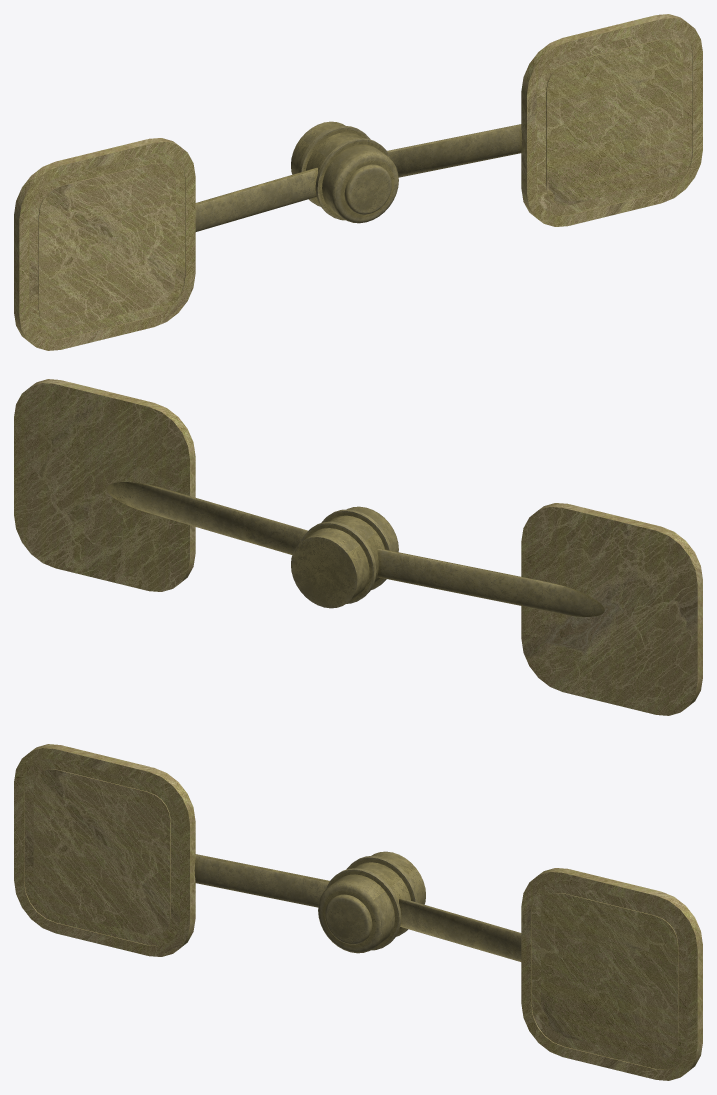
Rendered from rotating_floor.fbx.
The picture shows the model from 3 angles, top to bottom: view 1: azimuth 30°, elevation 25°; view 2: azimuth 150°, elevation 25°; view 3: azimuth 330°, elevation 25°; orthographic projection.
Visible parts, largest first — view 1: rotating_floor; view 2: rotating_floor; view 3: rotating_floor.
Boxes of the visible parts, x1,y1,x2,y2 form: rotating_floor: (14,14,702,350); rotating_floor: (14,379,702,715); rotating_floor: (14,744,702,1080).
Size of the model in its own units: 20.56 by 5.3 by 2.41.
